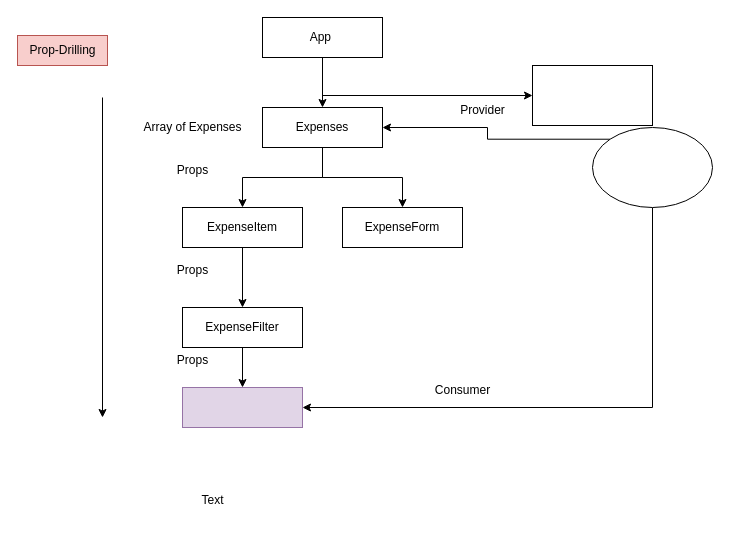
This 730x533 diagram has some shape labels left out. The box of each missing label's shape, as (x1, y1, x2, y2) in pixels:
Comp A: (182, 386, 302, 428)
Context Expenses Coll: (592, 126, 712, 208)
Playground: (532, 64, 652, 126)
